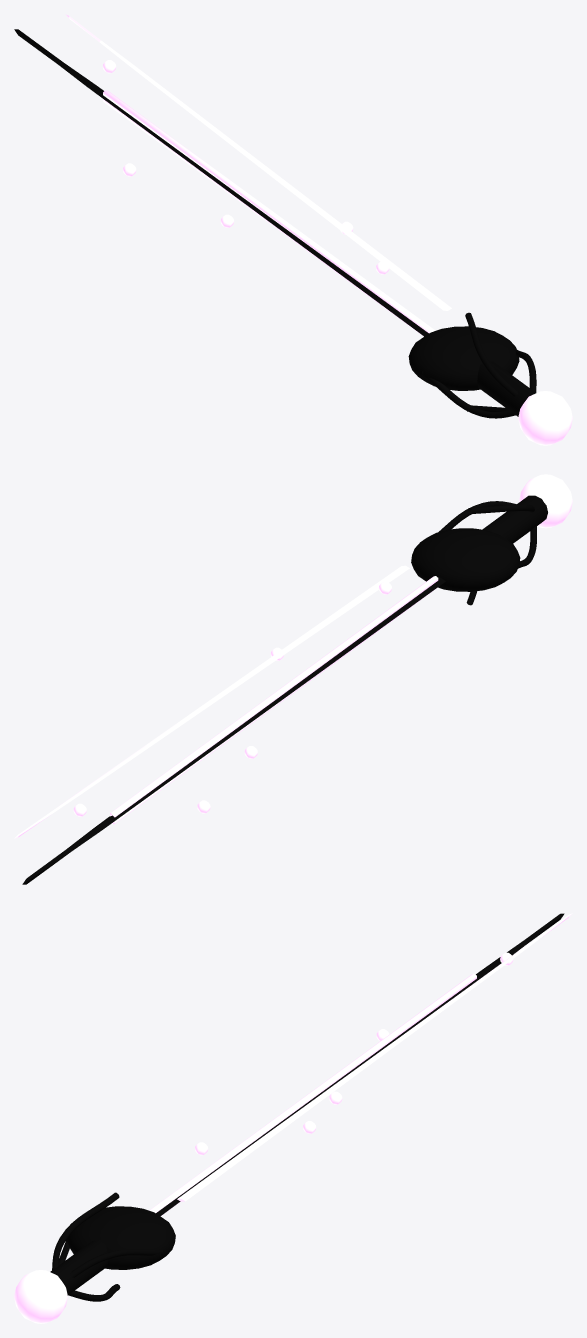
The model's file is estoque_cuantico.glb.
The picture shows the model from 3 angles, top to bottom: view 1: azimuth 30°, elevation 25°; view 2: azimuth 150°, elevation 25°; view 3: azimuth 330°, elevation 25°; orthographic projection.
Parts seen in each view (by area): view 1: estoque_cuantico; view 2: estoque_cuantico; view 3: estoque_cuantico.
Part boxes in pixels (x1,y1,x2,y2): estoque_cuantico: (14,14,572,445); estoque_cuantico: (14,474,572,884); estoque_cuantico: (14,913,572,1323).
Size of the model in its own units: 0.13 by 0.1277 by 1.27.
2 materials, 1 textured.
